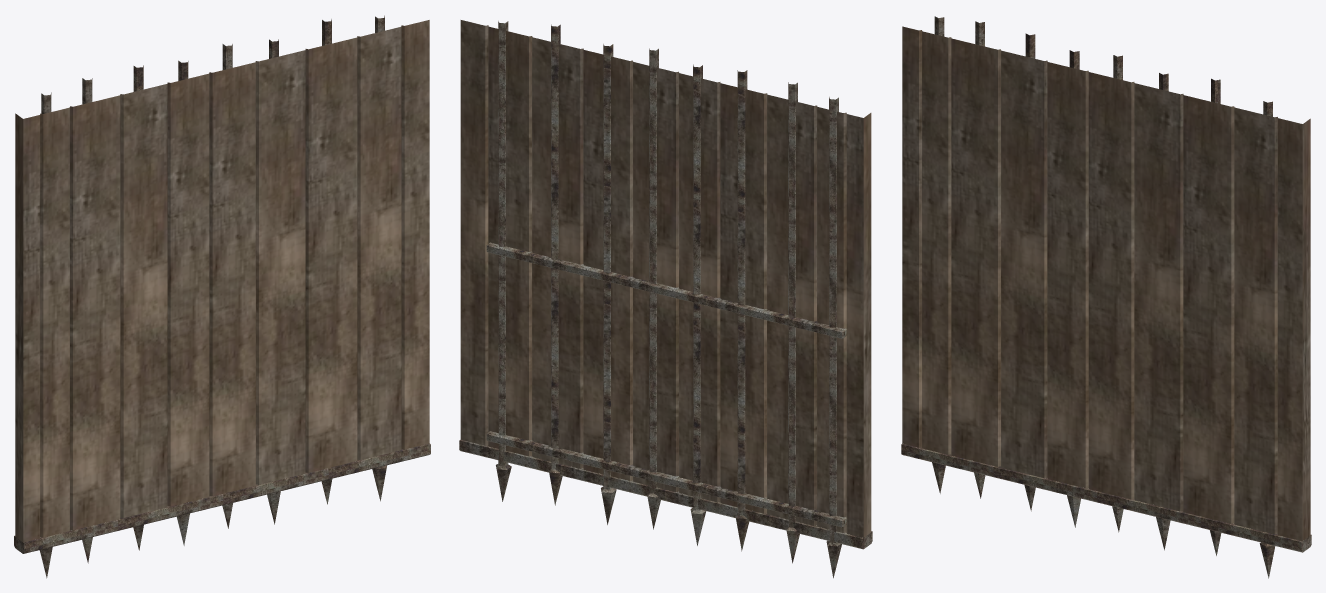
File: TW2_5_HOUSE_04_GATE-transformed.glb
3 renders of one model, left to right at view 1: azimuth 30°, elevation 25°; view 2: azimuth 150°, elevation 25°; view 3: azimuth 330°, elevation 25°, orthographic.
Parts seen in each view (by area): view 1: default; view 2: default; view 3: default.
Boxes of the visible parts, x1,y1,x2,y2 form: default: [14, 15, 430, 578]; default: [459, 20, 872, 578]; default: [901, 16, 1311, 578].
Bounding box in the file's own units: 4.57 × 5.32 × 0.2468.
2 materials, 2 textured.
